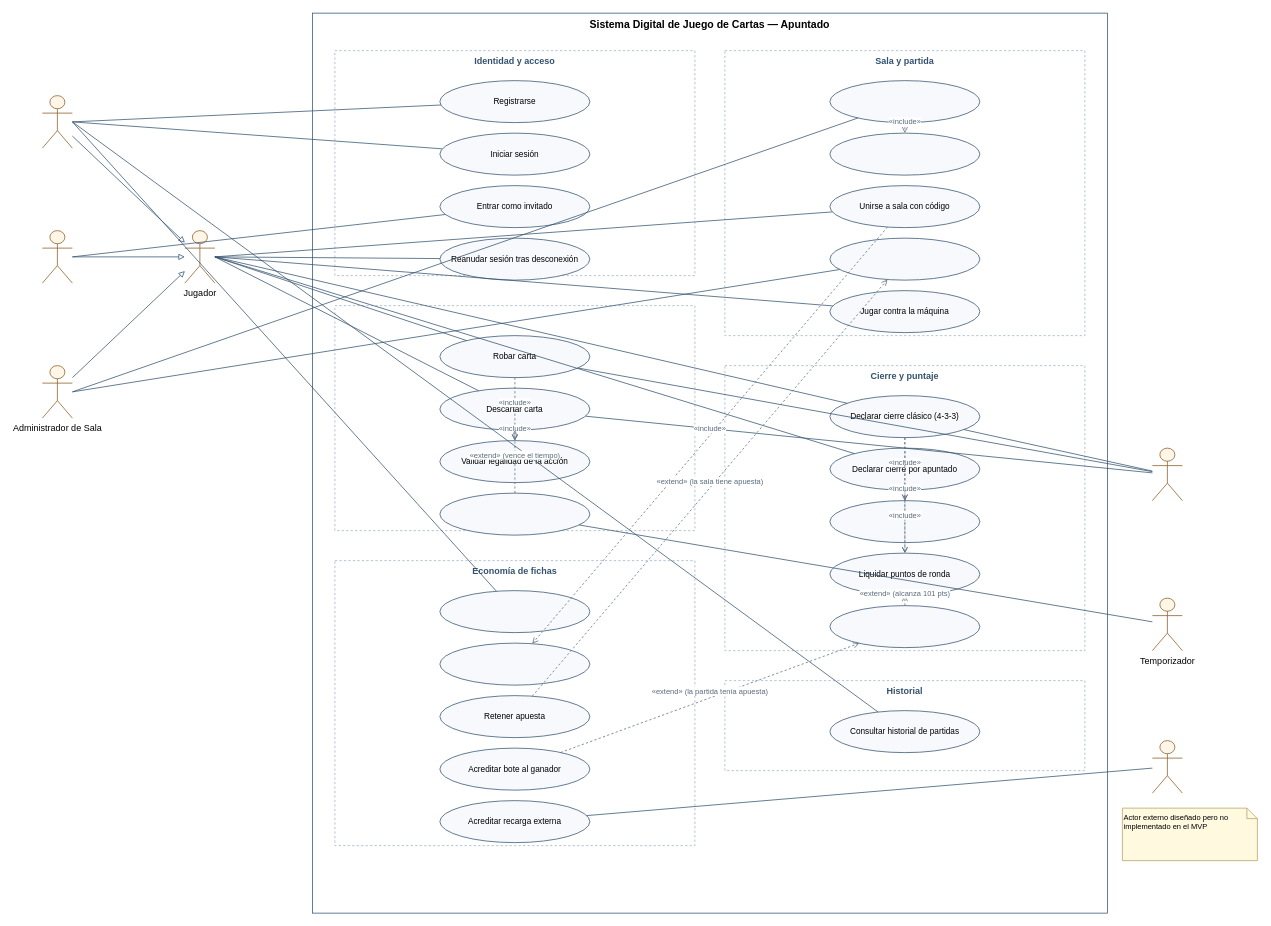
Some shapes in this 1271 by 926 pixel diagram are drawn without their labels. The box of each missing label's shape, as (x1, y1, x2, y2) in pixels:
Ciclo de turno: (334, 305, 695, 531)
Configurar reglas de la partida: (829, 132, 980, 175)
Consultar saldo de fichas: (439, 590, 590, 633)
Crear sala privada: (829, 80, 980, 123)
Finalizar partida: (829, 605, 980, 648)
Iniciar partida: (829, 237, 980, 280)
Jugador Invitado: (42, 230, 72, 283)
Jugador Registrado: (42, 95, 72, 148)
Oponente Virtual: (1152, 447, 1182, 501)
Pasarela de Recarga: (1152, 740, 1182, 793)
Resolver turno vencido: (439, 492, 590, 535)
Validar combinación de mano: (829, 500, 980, 543)
Verificar saldo suficiente: (439, 642, 590, 685)
